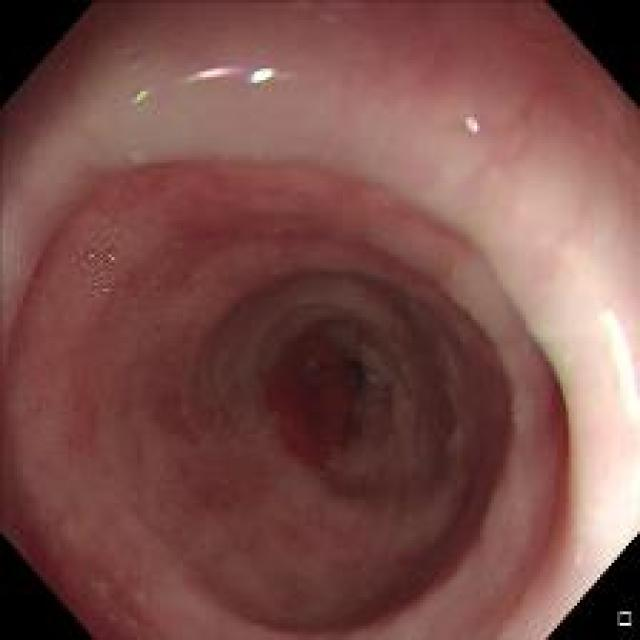bubbles: (76, 238, 120, 286), (79, 270, 118, 296)
color misalignment: (178, 50, 281, 92), (125, 75, 158, 112), (459, 101, 480, 141)
contrast: (205, 275, 469, 528)
specularity: (592, 298, 635, 426)
